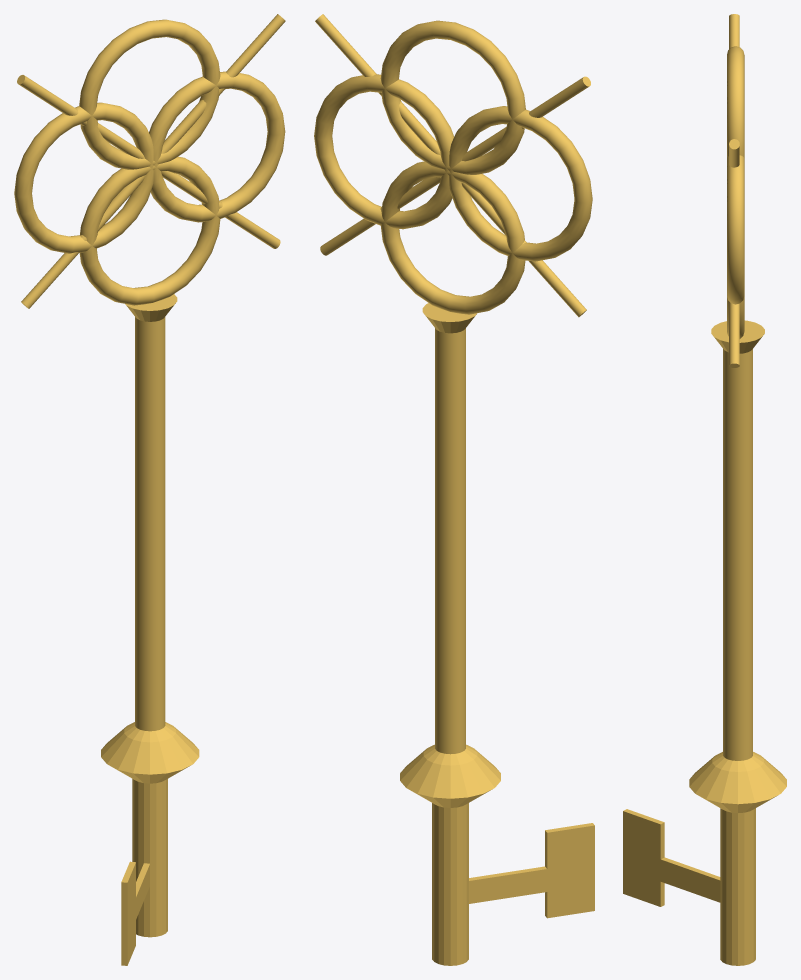
File: KEY1.fbx
The picture shows the model from 3 angles, left to right: view 1: azimuth 30°, elevation 25°; view 2: azimuth 150°, elevation 25°; view 3: azimuth 270°, elevation 25°; orthographic projection. The views are drawn at different scales.
Parts seen in each view (by area): view 1: 1LLAVE; view 2: 1LLAVE; view 3: 1LLAVE.
Part boxes in pixels (box(x1,y1,x2,y2)): 1LLAVE: box(14, 14, 285, 965); 1LLAVE: box(314, 14, 594, 965); 1LLAVE: box(623, 14, 786, 965).
Size of the model in its own units: 19.89 by 64.29 by 10.56.
